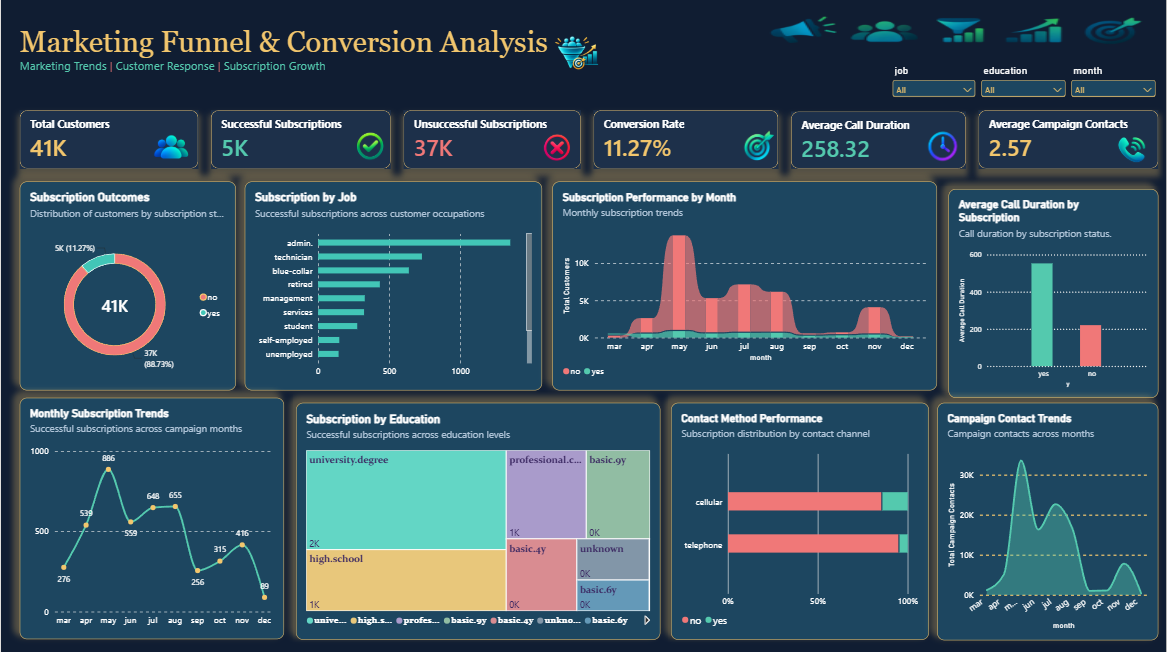

The page's visual inventory and layout, read from the dashboard file:
{"tool":"powerbi","page":{"name":"Page 1","canvas":[1920,1080],"ordinal":0},"visuals":[{"type":"cardVisual","fields":{"Data":["bank-additional-full.Total Customers"]},"box":[30.9,183.9,294.3,96.7],"z":0},{"type":"cardVisual","fields":{"Data":["bank-additional-full.Successful Subscriptions"]},"box":[345.8,183.9,296.4,96.7],"z":1},{"type":"cardVisual","fields":{"Data":["bank-additional-full.Unsuccessful Subscriptions"]},"box":[662.8,183.9,292.3,96.7],"z":2},{"type":"cardVisual","fields":{"Data":["bank-additional-full.Conversion Rate"]},"box":[975.6,183.9,304.6,96.7],"z":3},{"type":"cardVisual","fields":{"Data":["bank-additional-full.Average Call Duration"]},"box":[1300.9,185,288.2,94.7],"z":4},{"type":"cardVisual","fields":{"Data":["bank-additional-full.Average Campaign Contacts"]},"box":[1609.6,183.9,296.4,96.7],"z":5},{"type":"donutChart","title":"Subscription Outcomes","fields":{"Category":["bank-additional-full.y"],"Y":["bank-additional-full.Total Customers"]},"box":[30.9,300.5,356.1,343.7],"z":6},{"type":"clusteredBarChart","title":"Subscription by Job","fields":{"Category":["bank-additional-full.job"],"Y":["bank-additional-full.Successful Subscriptions"]},"box":[401.4,300.5,489.9,343.7],"z":7},{"type":"treemap","title":"Subscription by Education","fields":{"Group":["bank-additional-full.education"],"Values":["bank-additional-full.Successful Subscriptions"]},"box":[485,665,600,390],"z":8},{"type":"lineChart","title":"Monthly Subscription Trends","fields":{"Category":["bank-additional-full.month"],"Y":["bank-additional-full.Successful Subscriptions"]},"box":[30,657.5,435,397.5],"z":9},{"type":"hundredPercentStackedBarChart","title":"Contact Method Performance","fields":{"Category":["bank-additional-full.contact"],"Series":["bank-additional-full.y"],"Y":["bank-additional-full.Total Customers"]},"box":[1102.5,665,425,390],"z":10},{"type":"clusteredColumnChart","title":"Average Call Duration by Subscription","fields":{"Category":["bank-additional-full.y"],"Y":["bank-additional-full.Average Call Duration"]},"box":[1560.2,312.9,345.8,343.7],"z":11},{"type":"areaChart","title":"Campaign Contact Trends","fields":{"Category":["bank-additional-full.month"],"Y":["bank-additional-full.Total Campaign Contacts"]},"box":[1541.7,664.8,364.3,391.1],"z":12},{"type":"ribbonChart","title":"Subscription Performance by Month","fields":{"Category":["bank-additional-full.month"],"Series":["bank-additional-full.y"],"Y":["bank-additional-full.Total Customers"]},"box":[907.7,300.5,634,343.7],"z":13},{"type":"slicer","fields":{"Values":["bank-additional-full.job"]},"box":[1463.5,107,146.1,150.3],"z":14},{"type":"slicer","fields":{"Values":["bank-additional-full.education"]},"box":[1609.6,107,148.2,150.3],"z":15},{"type":"slicer","fields":{"Values":["bank-additional-full.month"]},"box":[1757.8,107,148.2,150.3],"z":16},{"type":"textbox","box":[30.9,43.2,928.3,107],"z":17},{"type":"image","box":[874.8,53.5,146.1,67.9],"z":18},{"type":"image","box":[1225,0,695,107.5],"z":19},{"type":"image","box":[157.5,215,245,57],"z":20},{"type":"image","box":[485,215,245,55],"z":21},{"type":"image","box":[810,215,210,60],"z":22},{"type":"image","box":[1155,212.5,185,57.5],"z":23},{"type":"image","box":[1410,210,282.5,62.5],"z":24},{"type":"image","box":[1820,215,87.5,65],"z":25}]}

Visuals, with their boxes in screenshot pixels (x1, y1, x2, y2), scaled from the page's 1920x1080 canvas onto the 1167x652 screenshot:
cardVisual - bank-additional-full.Total Customers: 19,111,198,169
cardVisual - bank-additional-full.Successful Subscriptions: 210,111,390,169
cardVisual - bank-additional-full.Unsuccessful Subscriptions: 403,111,581,169
cardVisual - bank-additional-full.Conversion Rate: 593,111,778,169
cardVisual - bank-additional-full.Average Call Duration: 791,112,966,169
cardVisual - bank-additional-full.Average Campaign Contacts: 978,111,1158,169
"Subscription Outcomes" donutChart: 19,181,235,389
"Subscription by Job" clusteredBarChart: 244,181,542,389
"Subscription by Education" treemap: 295,401,659,637
"Monthly Subscription Trends" lineChart: 18,397,283,637
"Contact Method Performance" hundredPercentStackedBarChart: 670,401,928,637
"Average Call Duration by Subscription" clusteredColumnChart: 948,189,1158,396
"Campaign Contact Trends" areaChart: 937,401,1158,637
"Subscription Performance by Month" ribbonChart: 552,181,937,389
slicer - bank-additional-full.job: 890,65,978,155
slicer - bank-additional-full.education: 978,65,1068,155
slicer - bank-additional-full.month: 1068,65,1158,155
textbox: 19,26,583,91
image: 532,32,621,73
image: 745,0,1166,65
image: 96,130,245,164
image: 295,130,444,163
image: 492,130,620,166
image: 702,128,814,163
image: 857,127,1029,165
image: 1106,130,1159,169
